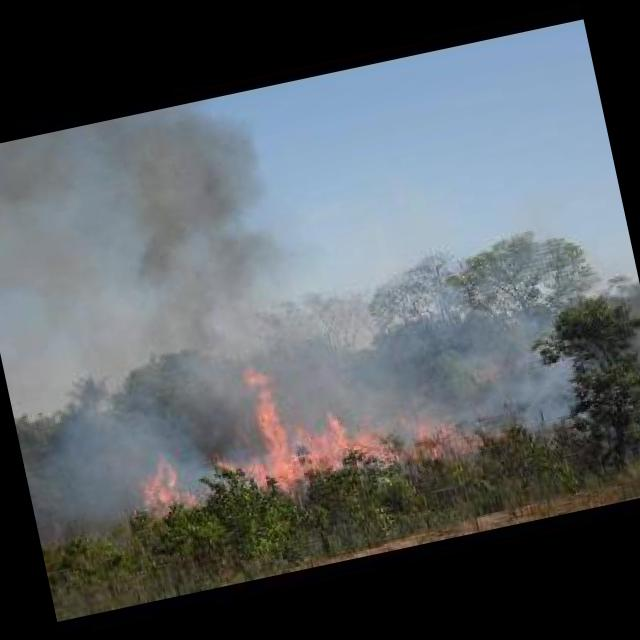Fire: (230, 320, 470, 503), (126, 452, 196, 516)
Smoke: (5, 105, 281, 323)
